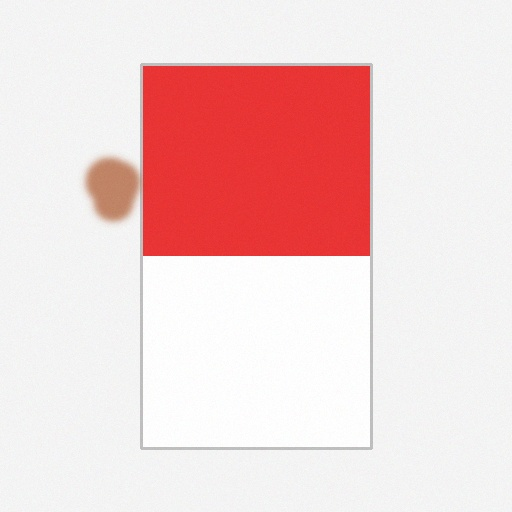surface_abnormality: (87, 155, 157, 225)
